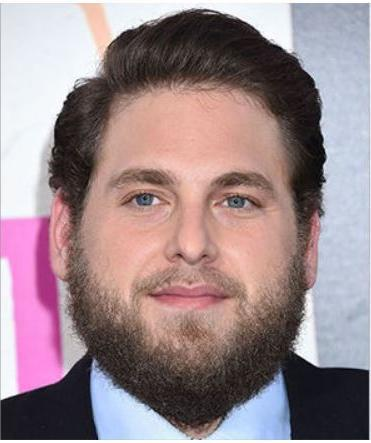Sober: (91, 105, 289, 337)
